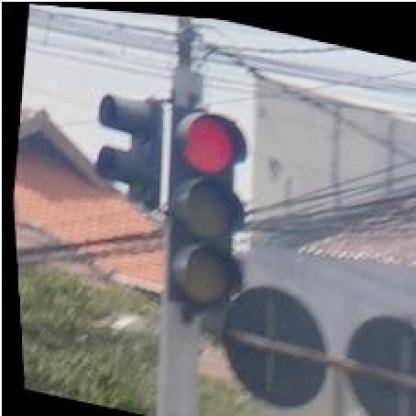red: (142, 98, 261, 313)
